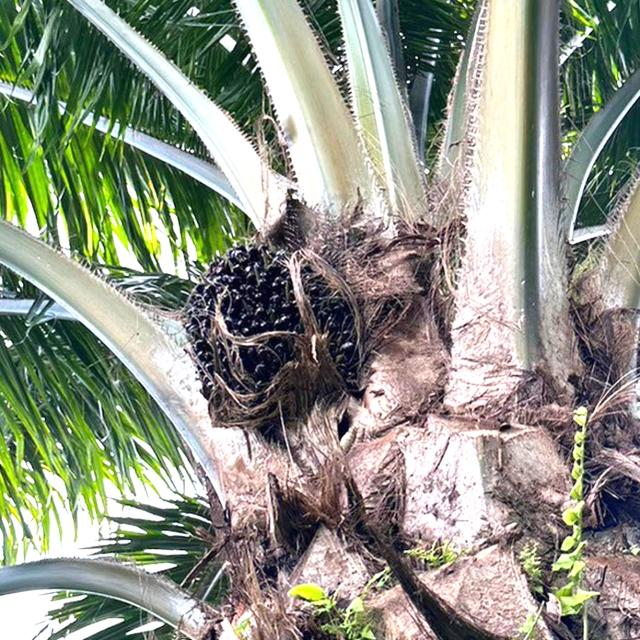unripe: (170, 232, 386, 433)
